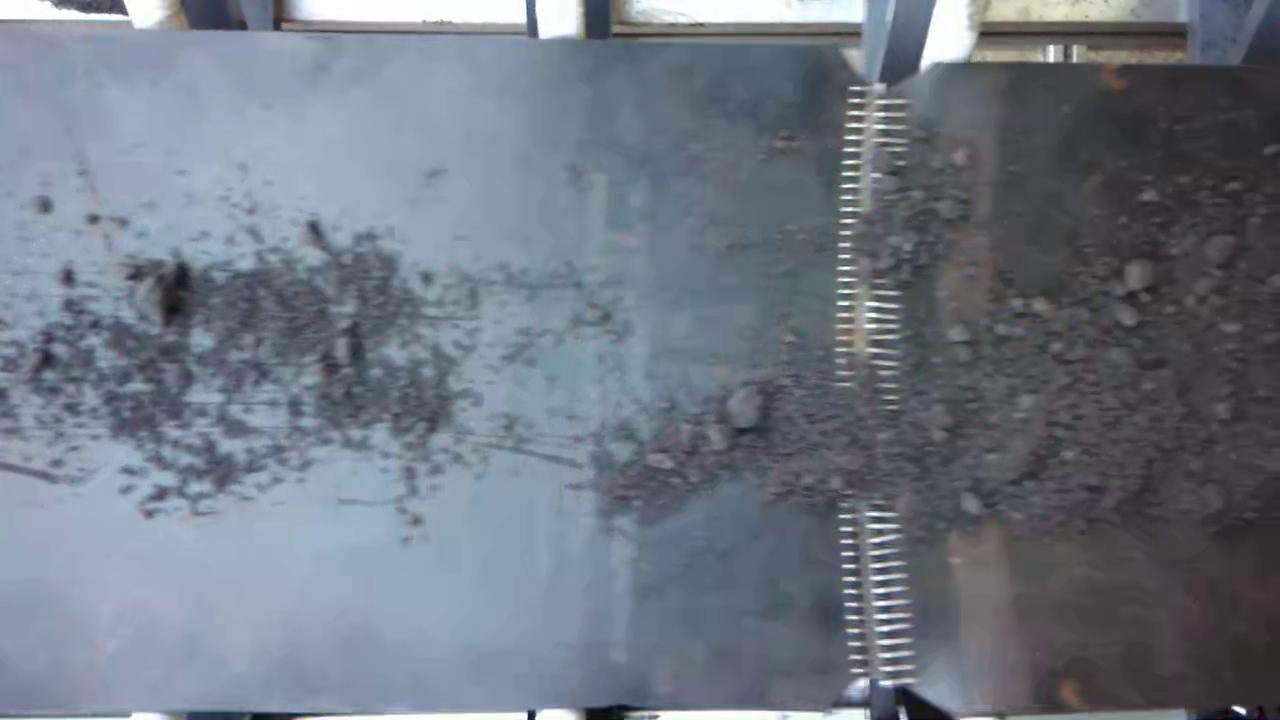conveyor: (5, 67, 1276, 696)
